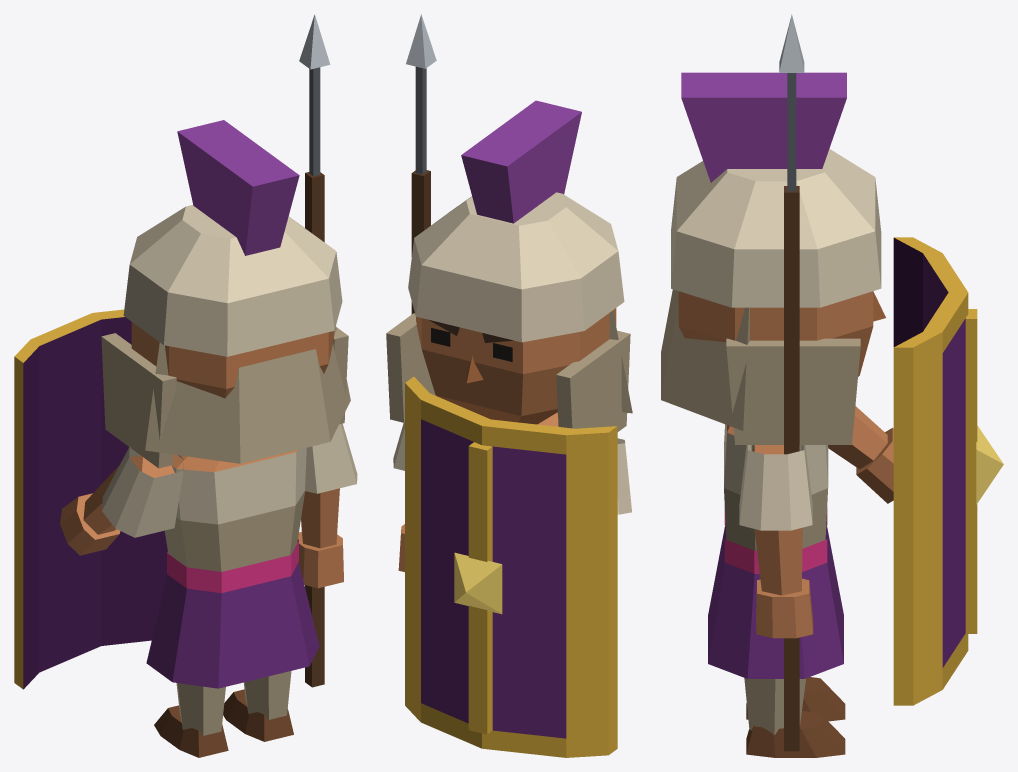
The model's file is EN_Praetorian.fbx.
3 views of the same model, side by side, from view 1: azimuth 30°, elevation 25°; view 2: azimuth 150°, elevation 25°; view 3: azimuth 270°, elevation 25° (orthographic). The views are drawn at different scales.
Parts seen in each view (by area): view 1: Head, ArmL, Body, ArmR, LegL, LegR; view 2: ArmL, Head, ArmR; view 3: Head, ArmL, ArmR, Body, LegR, LegL.
Part boxes in pixels (x1=…): Head: x1=101, y1=120, x2=350, y2=468; ArmL: x1=14, y1=309, x2=183, y2=689; Body: x1=146, y1=448, x2=319, y2=688; ArmR: x1=298, y1=14, x2=357, y2=687; LegL: x1=154, y1=683, x2=228, y2=757; LegR: x1=223, y1=671, x2=293, y2=741; ArmL: x1=405, y1=376, x2=631, y2=757; Head: x1=386, y1=100, x2=632, y2=431; ArmR: x1=393, y1=14, x2=436, y2=571; Head: x1=661, y1=72, x2=885, y2=444; ArmL: x1=828, y1=237, x2=1003, y2=705; ArmR: x1=739, y1=14, x2=813, y2=751; Body: x1=708, y1=424, x2=843, y2=678; LegR: x1=744, y1=678, x2=845, y2=757; LegL: x1=746, y1=677, x2=845, y2=721.
Size of the model in its own units: 0.8766 by 0.8679 by 2.13.
